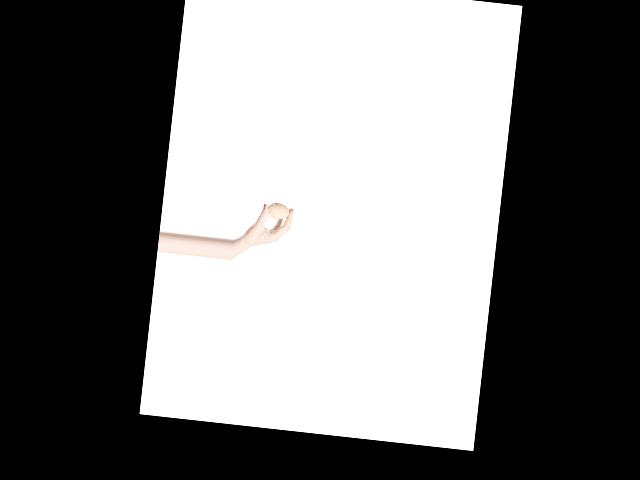egg: (266, 202, 289, 220)
